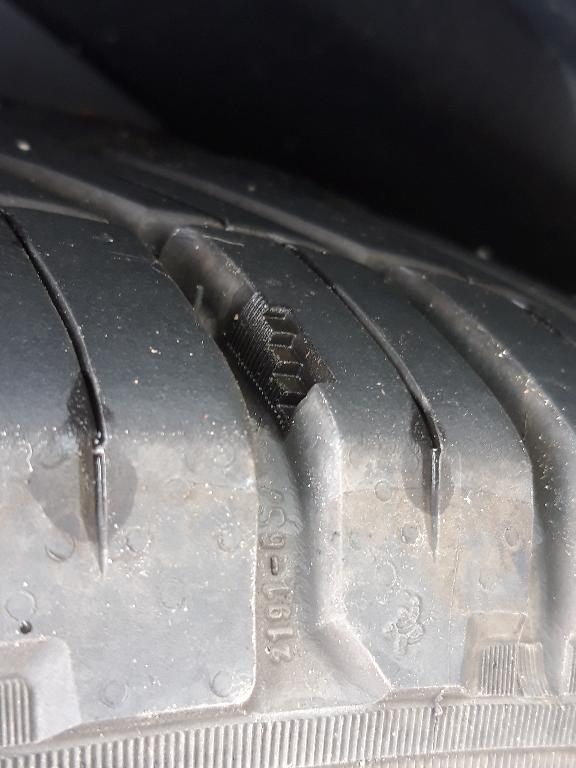temoin:90: (221, 288, 343, 440)
